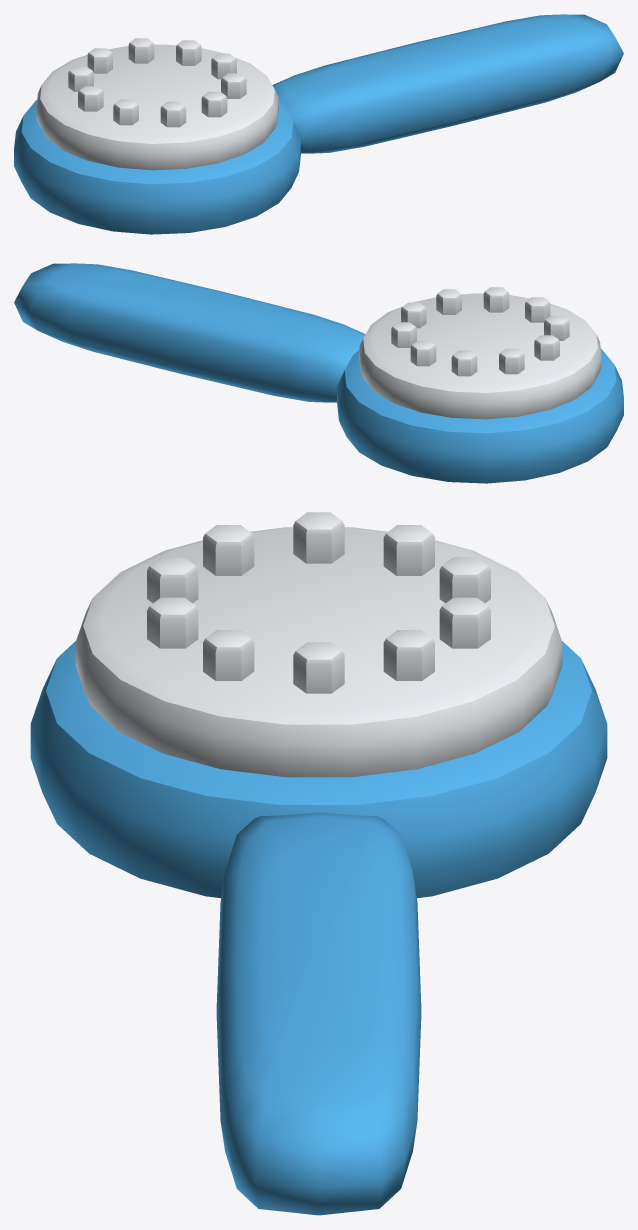
Rendered from escova_cabelo_azul.glb.
The picture shows the model from 3 angles, top to bottom: view 1: azimuth 30°, elevation 25°; view 2: azimuth 150°, elevation 25°; view 3: azimuth 270°, elevation 25°; orthographic projection. The views are drawn at different scales.
Parts seen in each view (by area): view 1: escova_cabelo_azul; view 2: escova_cabelo_azul; view 3: escova_cabelo_azul.
Part boxes in pixels (<box>): escova_cabelo_azul: <box>14,14,623,234</box>; escova_cabelo_azul: <box>14,263,623,483</box>; escova_cabelo_azul: <box>30,512,607,1215</box>.
Bounding box in the file's own units: 0.2095 × 0.038 × 0.09.
Materials: 1 (1 with a texture image).
